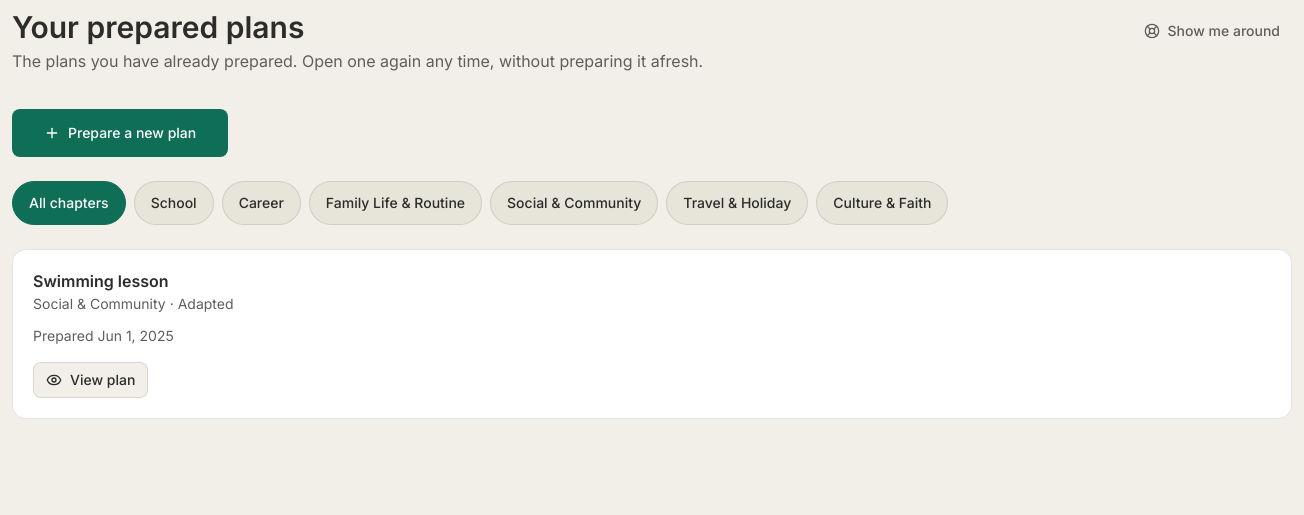
PlansList › surfaces an inline error when opening a plan fails, and does not crash the list
expect the heading "Swimming lesson" is shown: met, box [33, 271, 169, 291]
Click the button "View plan". click: (91, 380)
box: [33, 362, 148, 398]
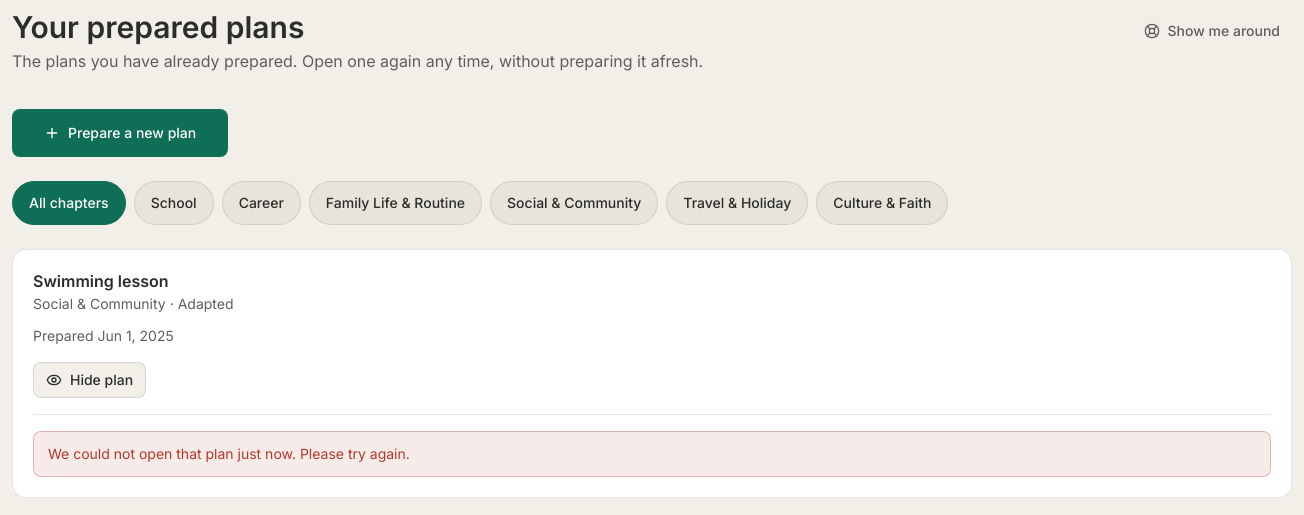
expect the heading "Swimming lesson" is shown: met, box [33, 271, 169, 291]
expect the message shows "could not open that plan": met, box [48, 445, 410, 462]
